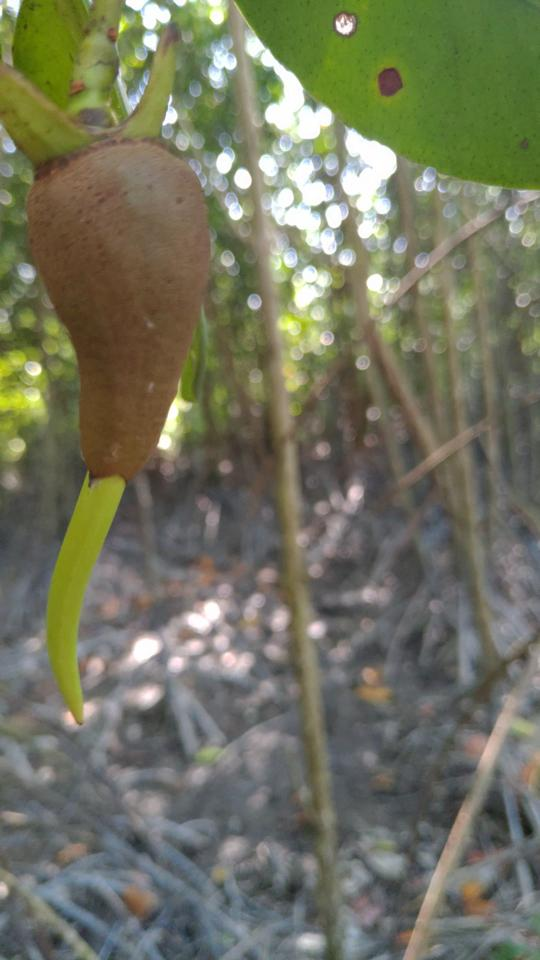mentah: (6, 90, 219, 730)
